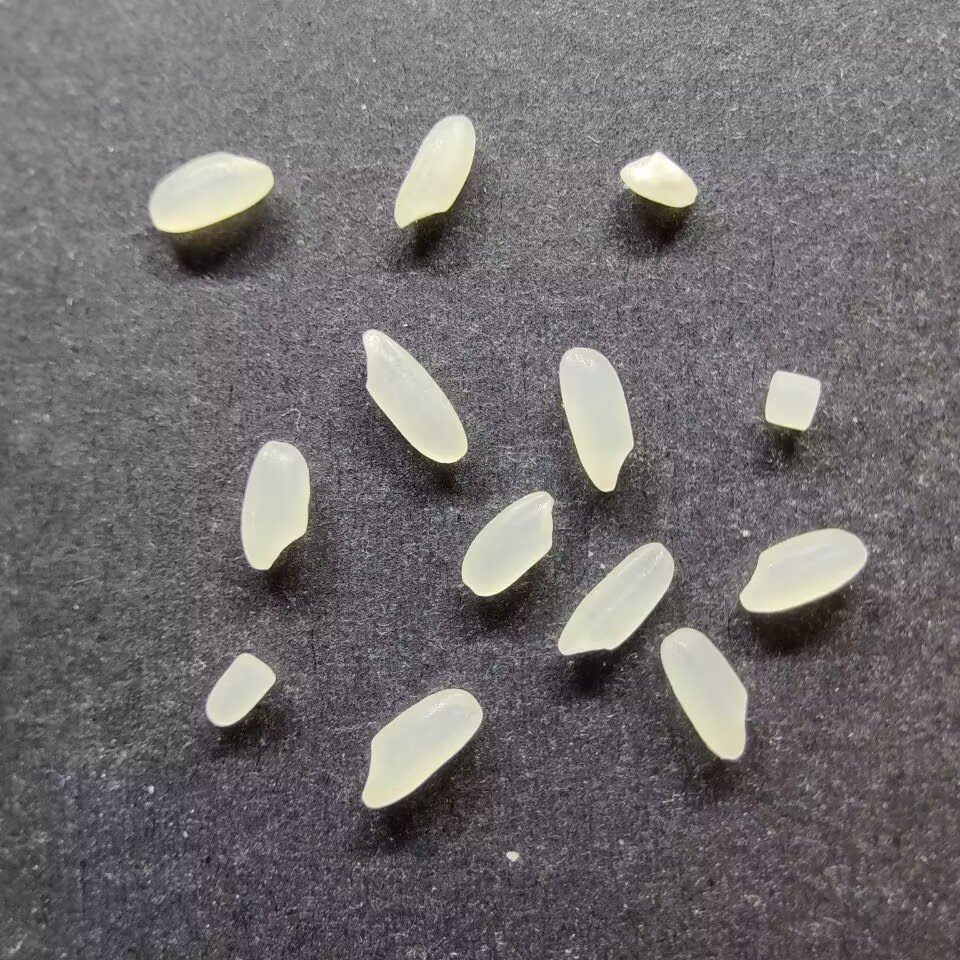broken: (203, 651, 276, 728), (619, 151, 697, 208), (763, 370, 821, 432)
rice: (360, 688, 484, 808), (361, 327, 468, 465), (557, 541, 675, 655), (659, 627, 748, 760), (738, 528, 868, 614), (558, 347, 634, 492), (148, 150, 273, 233), (459, 490, 554, 597), (393, 113, 478, 228), (240, 440, 310, 571)
